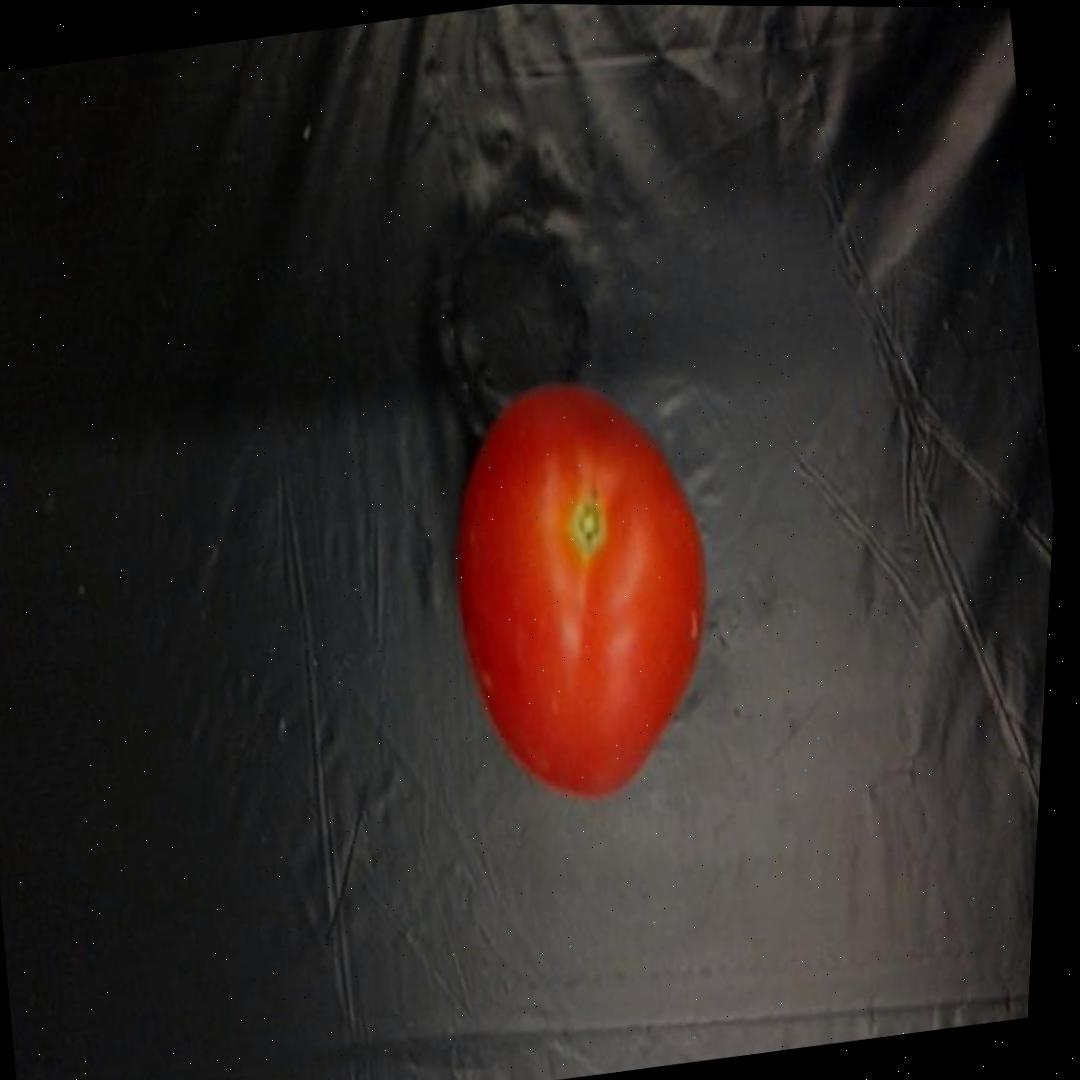matang: (422, 360, 747, 813)
